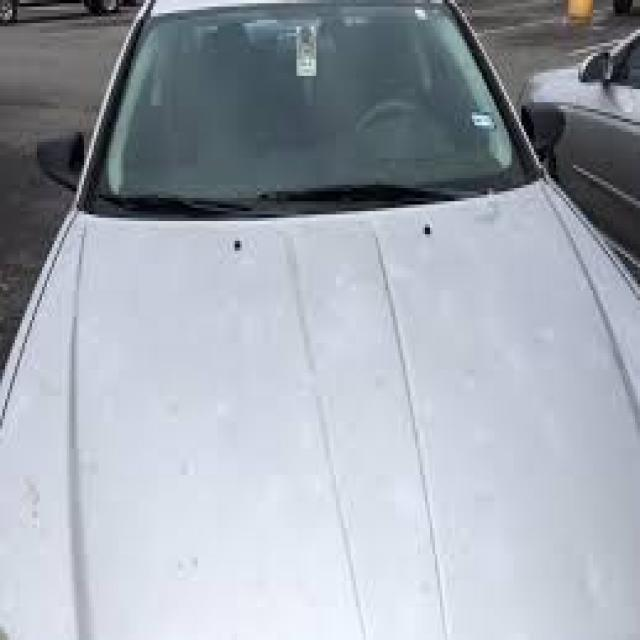minor: (470, 182, 504, 238)
